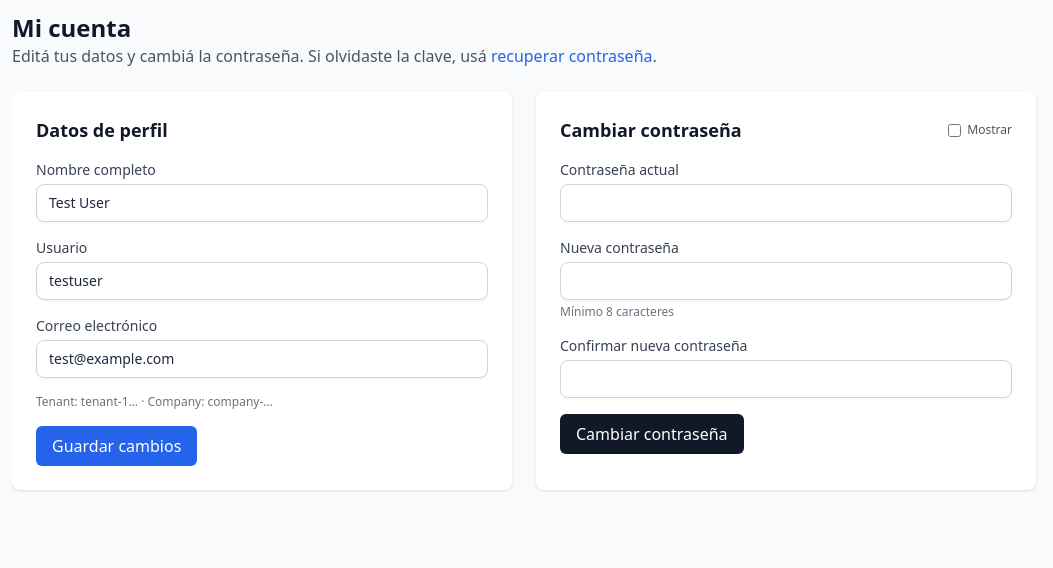
Test: Profile page › loads profile and updates name
Replace the text in the field showing "Test User" with "Nombre Actualizado" at (262, 203), box top-left (36, 184), bottom-right (488, 222)
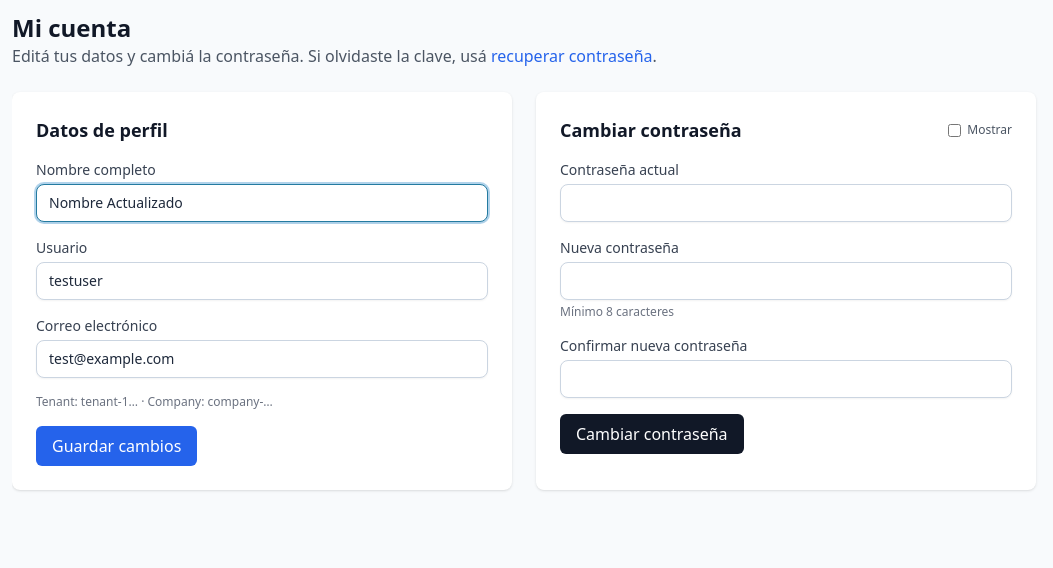
Click the button "Guardar cambios" at (117, 446), box top-left (36, 426), bottom-right (197, 466)
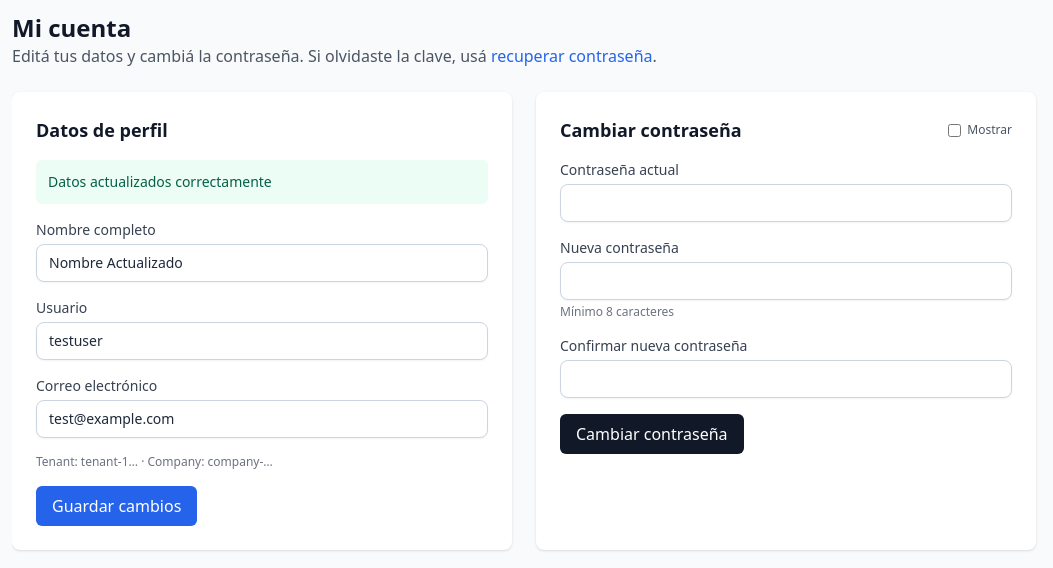
Expected: the text "Datos actualizados correctamente" is shown, top-left (36, 160), bottom-right (488, 204)
